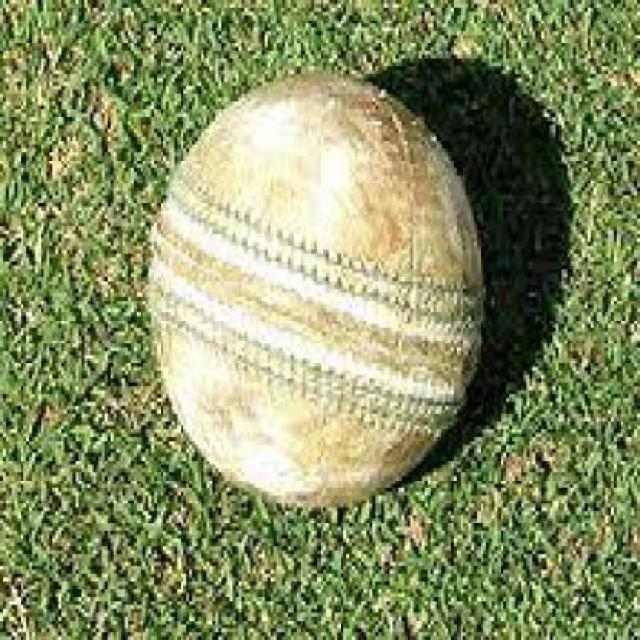ball: (120, 52, 510, 521)
